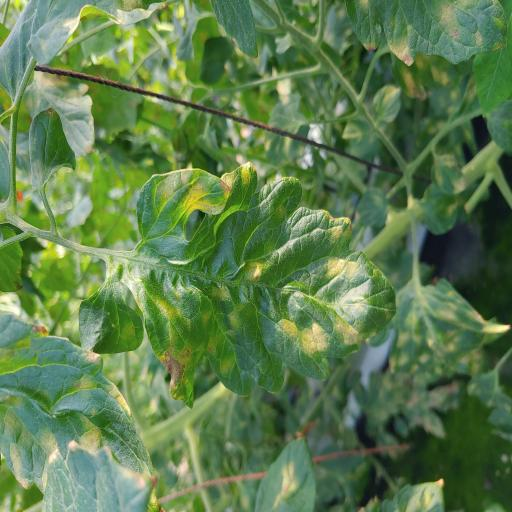Leaf Mold: (129, 161, 397, 410), (0, 310, 157, 512), (368, 278, 511, 388), (344, 0, 508, 66), (254, 435, 316, 512)
